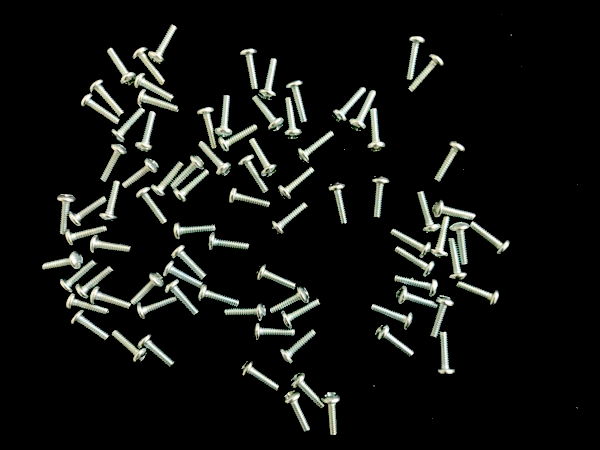shortscrew: (433, 140, 466, 184), (469, 222, 511, 256), (408, 54, 444, 93), (59, 260, 99, 294), (375, 324, 415, 358), (296, 131, 337, 164), (331, 87, 366, 125), (90, 79, 125, 117), (138, 334, 176, 369), (277, 167, 316, 201), (151, 161, 185, 200), (279, 330, 318, 364), (80, 94, 121, 126), (171, 245, 207, 281), (198, 141, 233, 178), (131, 47, 165, 85), (76, 267, 115, 300), (240, 359, 280, 391), (238, 155, 269, 196), (395, 247, 437, 277), (248, 137, 278, 179), (291, 373, 326, 409), (173, 170, 210, 204), (270, 203, 308, 236), (252, 95, 285, 133), (70, 311, 110, 342), (283, 390, 311, 434), (110, 109, 145, 144), (165, 281, 200, 316), (171, 154, 205, 190), (111, 330, 147, 364), (148, 24, 177, 66), (349, 90, 377, 133), (281, 299, 321, 329), (455, 282, 501, 308), (371, 304, 414, 331), (392, 229, 432, 258), (270, 286, 310, 315), (131, 272, 165, 306), (106, 48, 136, 86), (69, 197, 107, 227), (134, 73, 174, 101), (218, 125, 258, 153), (256, 264, 297, 291), (100, 144, 128, 183), (123, 158, 159, 188), (429, 296, 454, 339), (395, 286, 438, 311), (199, 284, 241, 309), (165, 260, 202, 288), (417, 191, 441, 234), (285, 80, 308, 124), (396, 275, 439, 298), (228, 187, 271, 210), (134, 111, 157, 153), (91, 285, 131, 309), (432, 200, 477, 221), (66, 293, 111, 314), (99, 181, 122, 222), (137, 297, 178, 320), (137, 90, 179, 112), (65, 225, 108, 246), (406, 36, 426, 81), (436, 332, 456, 377), (42, 251, 84, 272), (367, 109, 387, 153), (258, 58, 278, 102), (198, 106, 218, 149), (447, 237, 466, 282), (450, 223, 470, 265), (329, 183, 349, 225), (431, 216, 450, 260), (252, 323, 296, 342), (322, 393, 341, 437), (239, 48, 258, 91), (371, 177, 390, 218), (57, 194, 76, 235), (225, 303, 266, 322), (284, 98, 302, 141), (215, 95, 233, 138), (173, 223, 216, 241), (210, 233, 250, 252), (90, 236, 132, 254)
